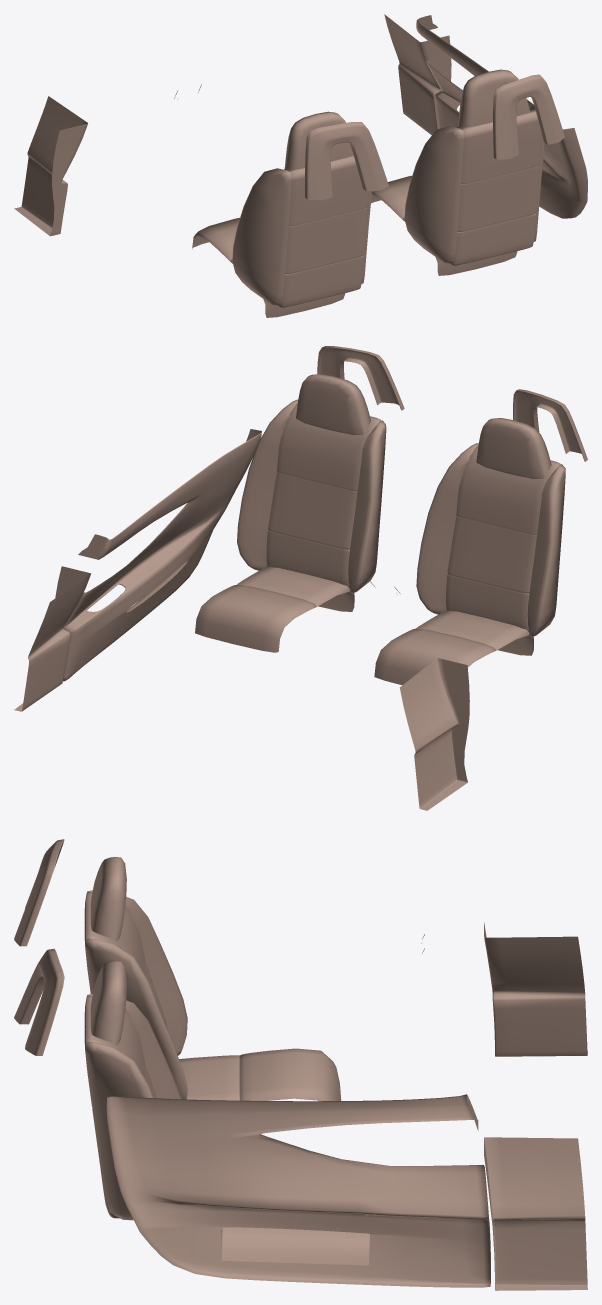
Rendered from stool.obj.
The picture shows the model from 3 angles, top to bottom: view 1: azimuth 30°, elevation 25°; view 2: azimuth 150°, elevation 25°; view 3: azimuth 270°, elevation 25°; orthographic projection. The views are drawn at different scales.
Parts seen in each view (by area): view 1: stool; view 2: stool; view 3: stool.
Part boxes in pixels (left/top/right/bottom): stool: left=14, top=14, right=587, bottom=317; stool: left=14, top=346, right=587, bottom=810; stool: left=14, top=839, right=587, bottom=1290.
Size of the model in its own units: 2.08 by 1.07 by 2.09.
